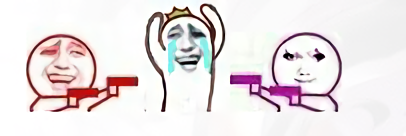dragon: (283, 48, 327, 85)
